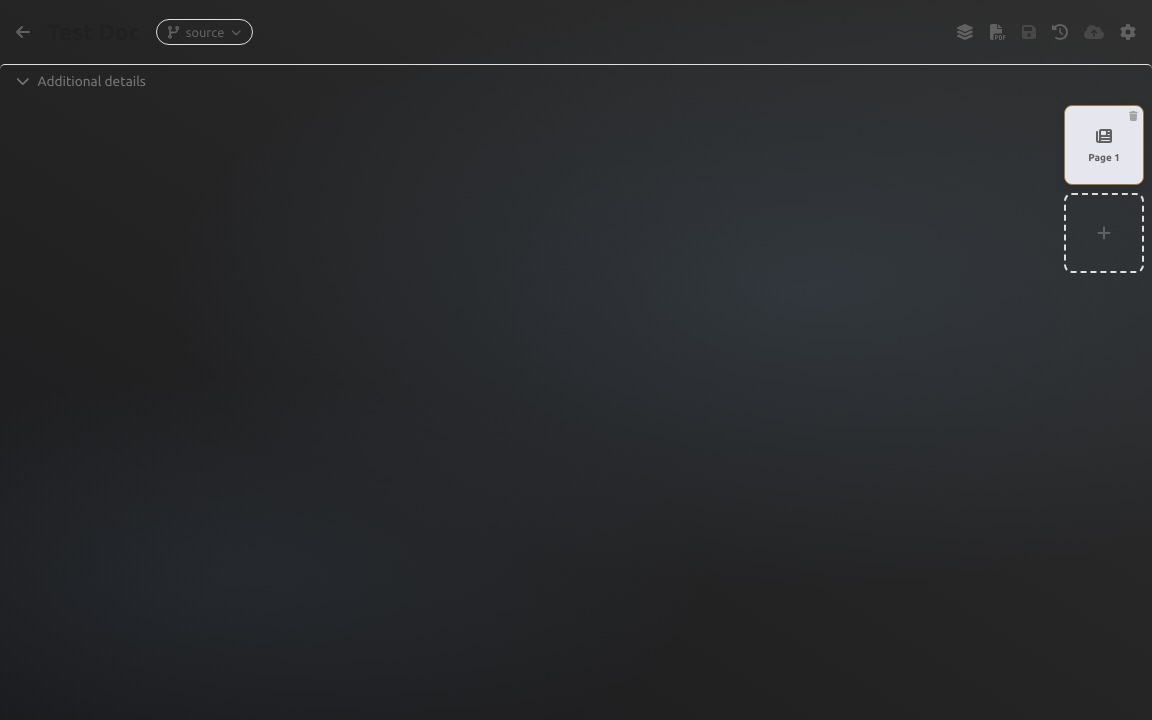
Scenario: SpellEditForm › versions › fuses another version into the current one, once its plan is confirmed
Expected: the element with test id "spell-edit-form" is shown, [0,18,1151,273]
Click the button with test id "version-selector" at (205, 32), box [156,19,253,45]
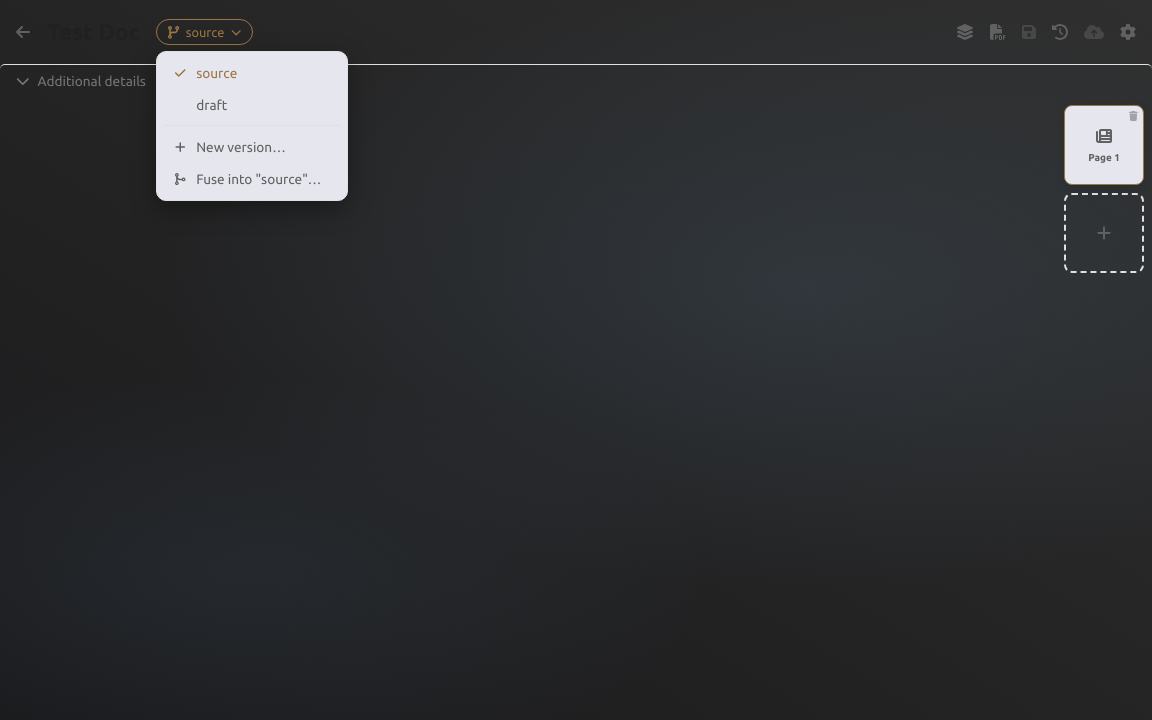
Click the menu item with test id "version-fuse" at (252, 179), box [163,164,341,194]
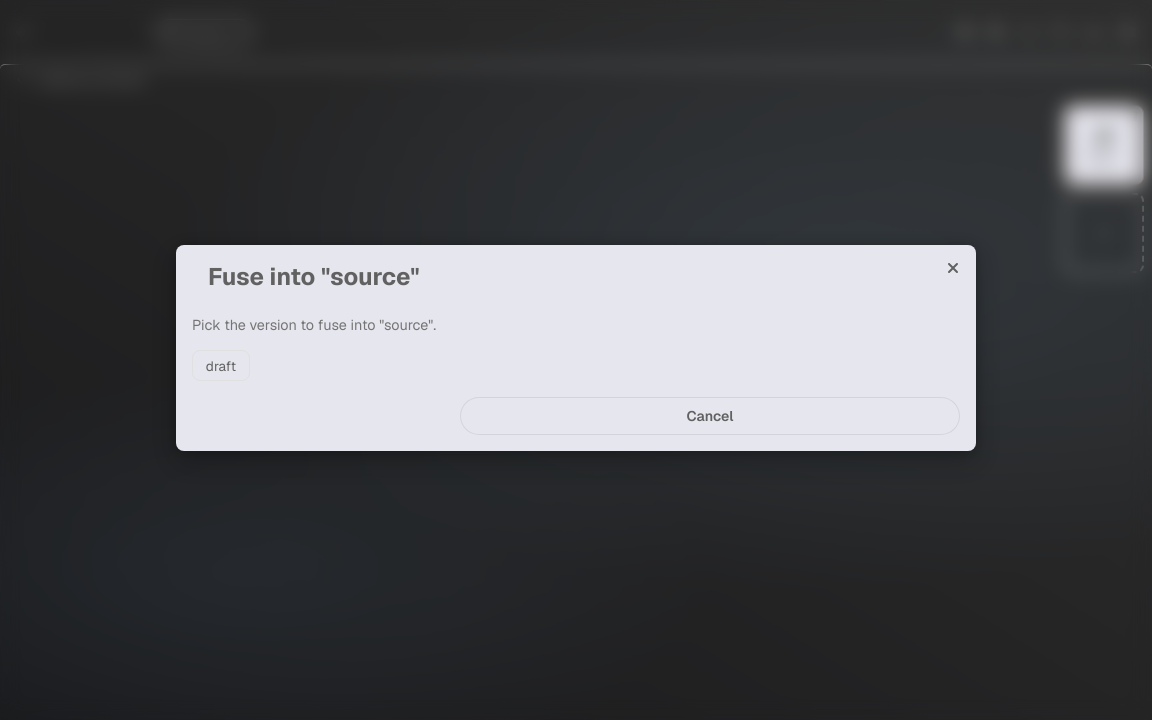
Click the button with test id "fuse-version-draft" at (221, 366), box [192,350,250,381]
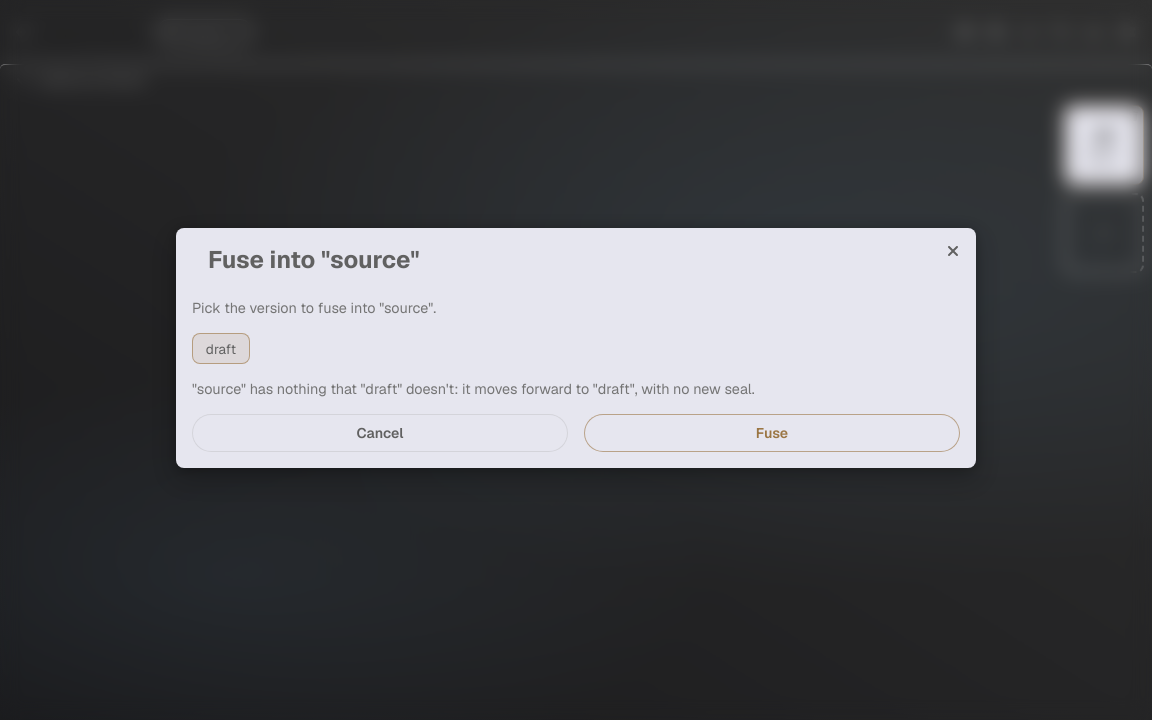
Click the button with test id "fuse-confirm" at (772, 433), box [584,414,960,452]
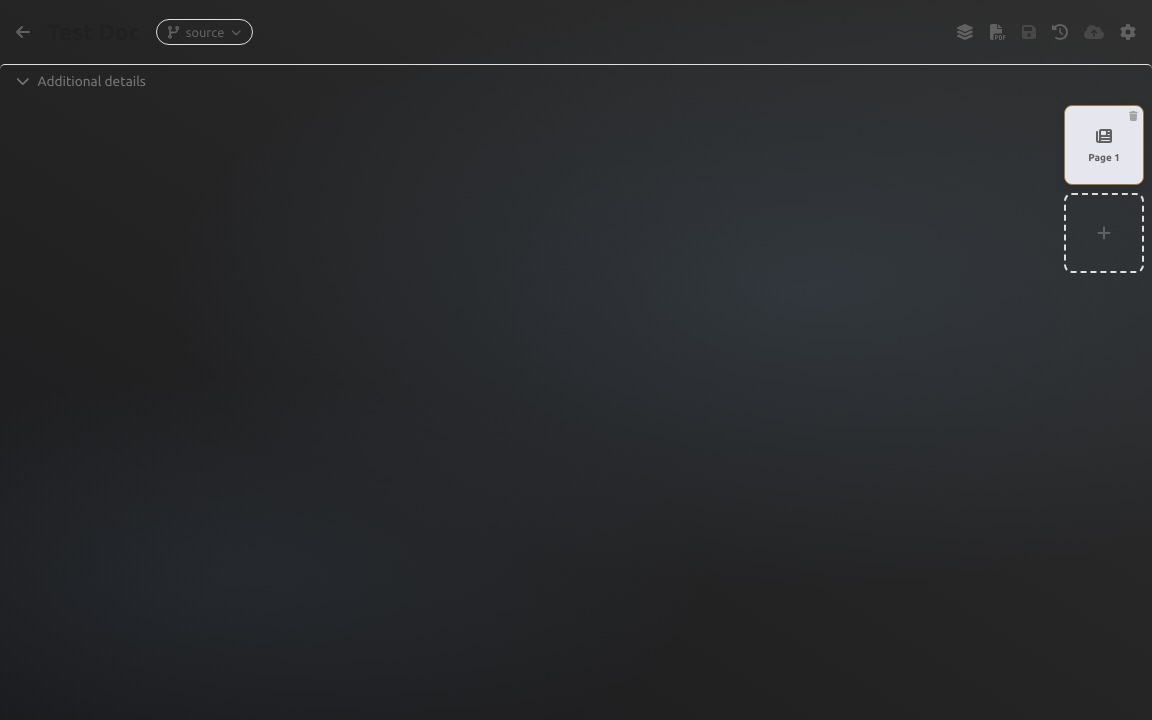
Expected: the element with test id "fuse-modal" is gone
